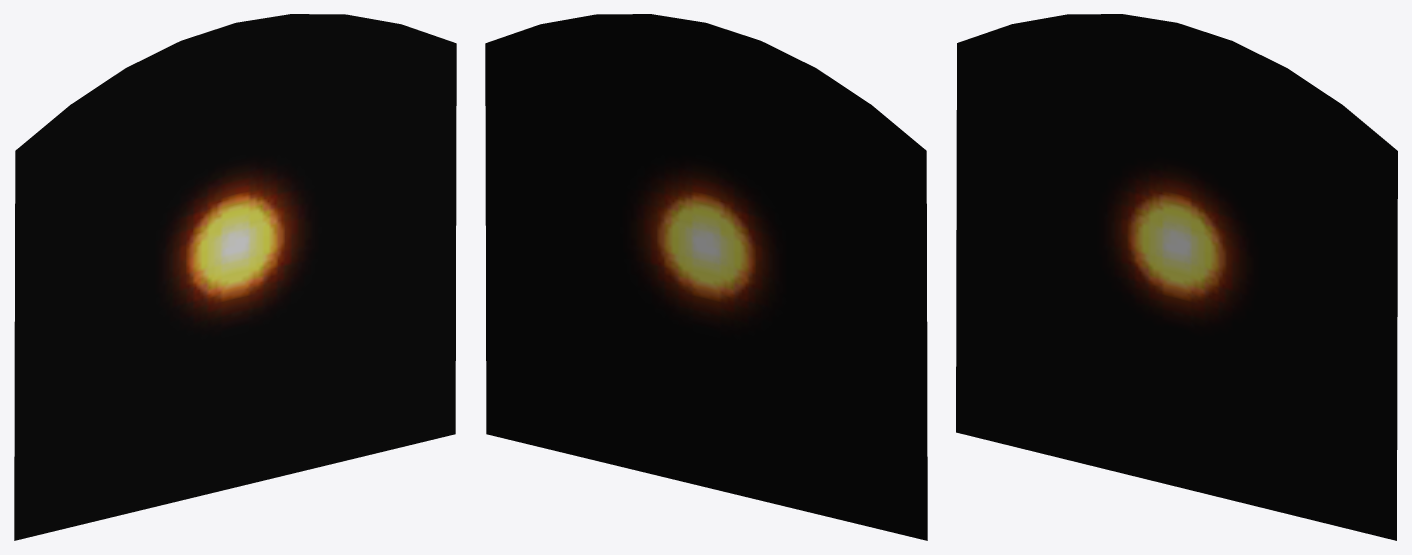
The model's file is 0392_pingzhang_M.glb.
3 renders of one model, left to right at view 1: azimuth 30°, elevation 25°; view 2: azimuth 150°, elevation 25°; view 3: azimuth 330°, elevation 25°, orthographic.
Size of the model in its own units: 2.19 by 2.2 by 0.
1 material, 1 textured.
